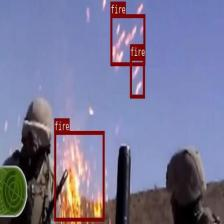fire: (54, 130, 104, 221), (110, 14, 145, 65), (130, 56, 144, 98)
